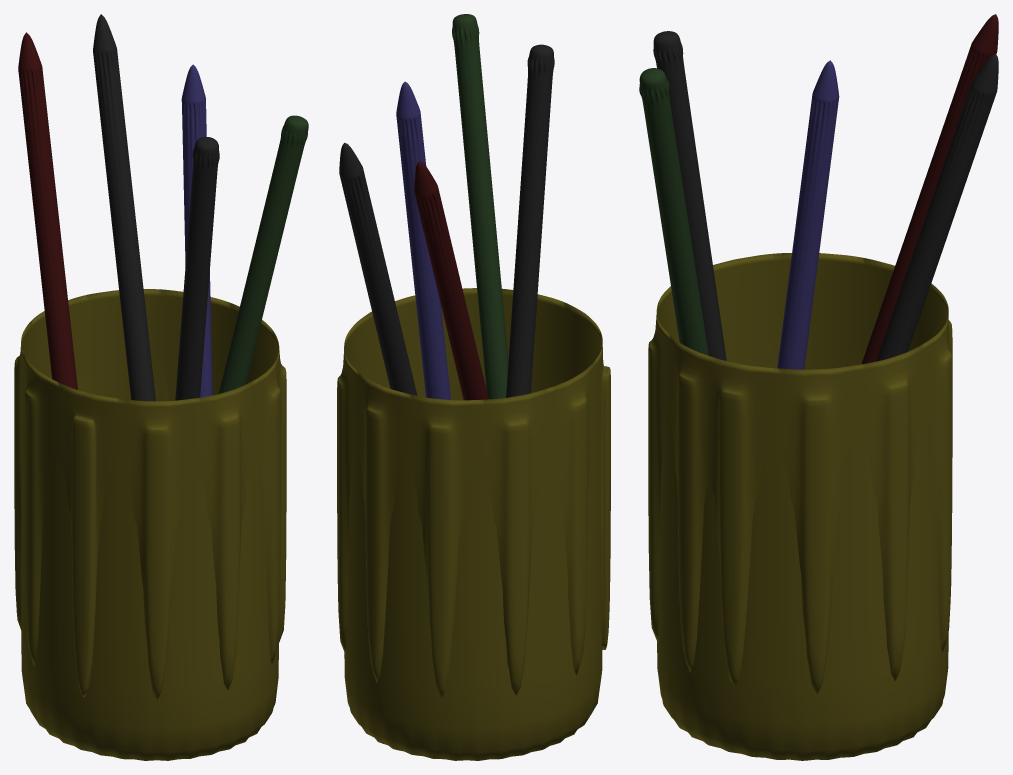
Rendered from bens.fbx.
3 renders of one model, left to right at view 1: azimuth 30°, elevation 25°; view 2: azimuth 150°, elevation 25°; view 3: azimuth 270°, elevation 25°, orthographic. The views are drawn at different scales.
Parts seen in each view (by area): view 1: Cylinder, Cylinder.005, Cylinder.004, Cylinder.003, Cylinder.002, Cylinder.001; view 2: Cylinder, Cylinder.003, Cylinder.002, Cylinder.001, Cylinder.005, Cylinder.004; view 3: Cylinder, Cylinder.005, Cylinder.001, Cylinder.003, Cylinder.002, Cylinder.004.
Part boxes in pixels (<box>): Cylinder: <box>14,289,286,760</box>; Cylinder.005: <box>93,14,155,401</box>; Cylinder.004: <box>18,32,77,389</box>; Cylinder.003: <box>218,115,308,393</box>; Cylinder.002: <box>175,137,219,400</box>; Cylinder.001: <box>181,64,212,397</box>; Cylinder: <box>337,288,610,760</box>; Cylinder.003: <box>452,14,508,399</box>; Cylinder.002: <box>506,44,554,397</box>; Cylinder.001: <box>396,81,450,399</box>; Cylinder.005: <box>339,142,417,395</box>; Cylinder.004: <box>414,161,488,400</box>; Cylinder: <box>648,253,952,760</box>; Cylinder.005: <box>876,53,998,361</box>; Cylinder.001: <box>777,60,839,369</box>; Cylinder.003: <box>639,68,708,355</box>; Cylinder.002: <box>653,31,726,360</box>; Cylinder.004: <box>861,14,998,364</box>.
Size of the model in its own units: 21.28 by 55.61 by 26.21.
